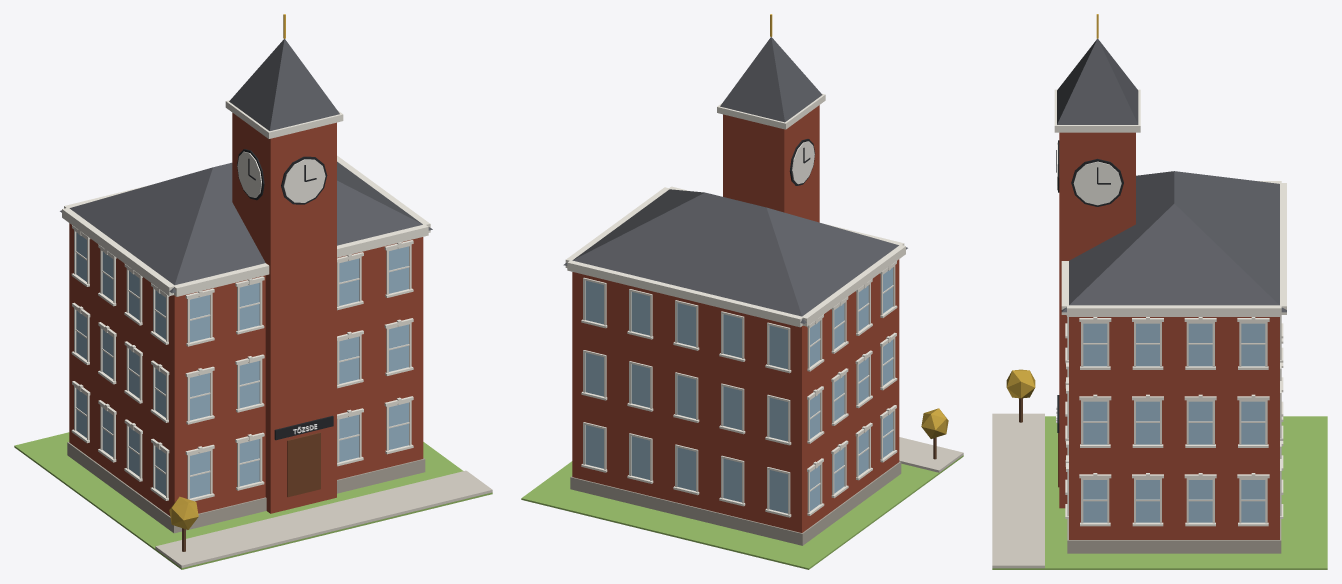
Rendered from Buro_saat_kuleli_3_Hafif.fbx.
3 renders of one model, left to right at view 1: azimuth 30°, elevation 25°; view 2: azimuth 150°, elevation 25°; view 3: azimuth 270°, elevation 25°, orthographic. The views are drawn at different scales.
Parts seen in each view (by area): view 1: Buro_saat_kuleli_3_Hafif; view 2: Buro_saat_kuleli_3_Hafif; view 3: Buro_saat_kuleli_3_Hafif.
Part boxes in pixels (box(x1,y1,x2,y2)): Buro_saat_kuleli_3_Hafif: box(14, 14, 492, 569); Buro_saat_kuleli_3_Hafif: box(521, 14, 963, 569); Buro_saat_kuleli_3_Hafif: box(992, 14, 1327, 569).
Size of the model in its own units: 15 by 22.08 by 14.
